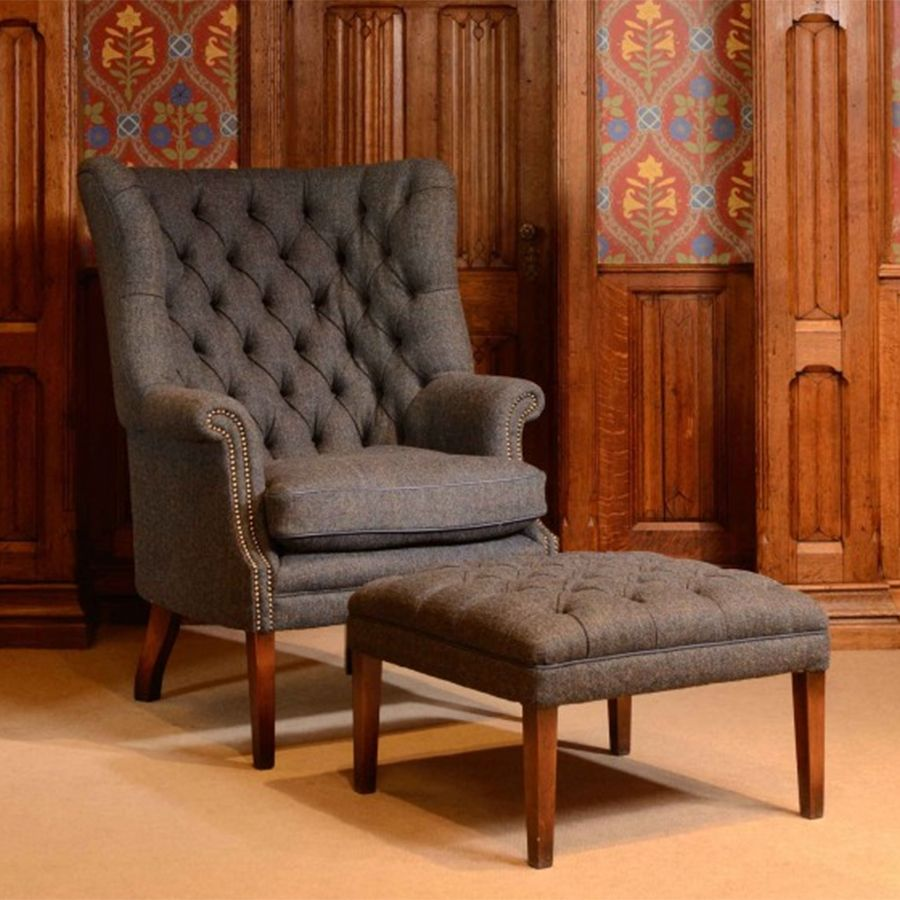chairs: (69, 146, 561, 772), (333, 546, 835, 874)
